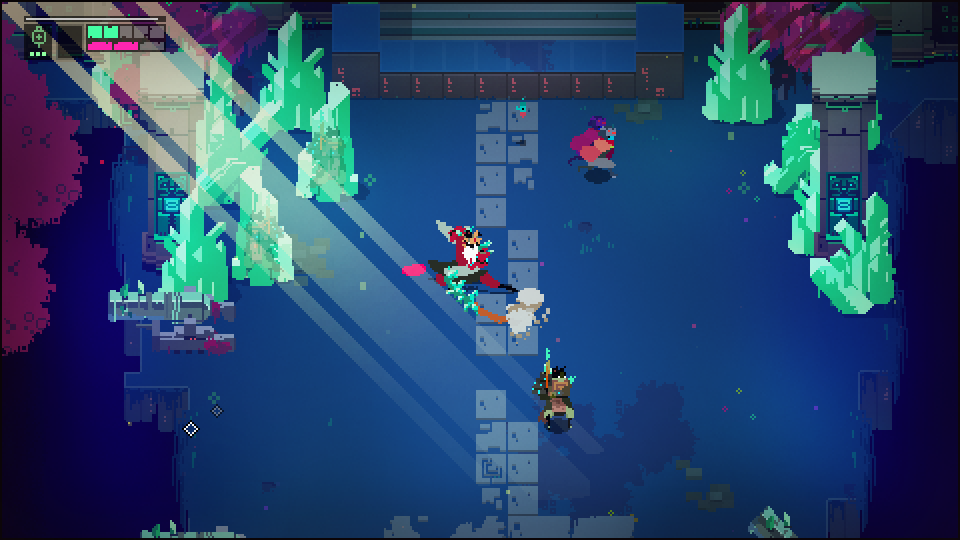hanged_man: (435, 220, 509, 322)
player: (581, 127, 620, 181)
